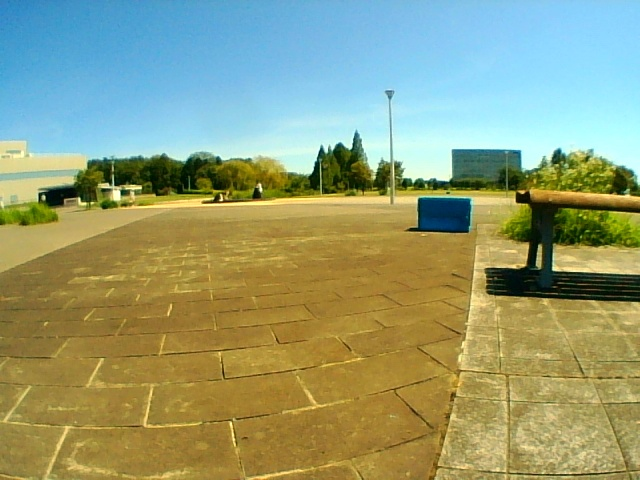blue_box: (418, 197, 471, 232)
